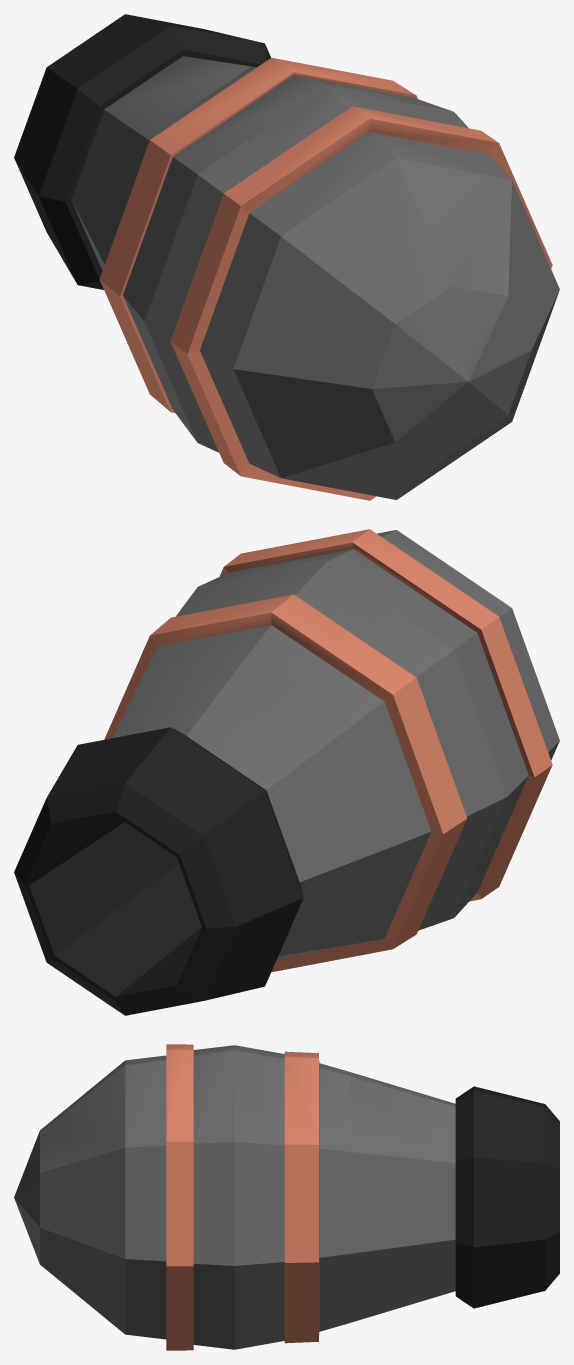
The model's file is TailArmor.fbx.
3 renders of one model, top to bottom at view 1: azimuth 30°, elevation 25°; view 2: azimuth 150°, elevation 25°; view 3: azimuth 270°, elevation 25°, orthographic. The views are drawn at different scales.
Parts seen in each view (by area): view 1: Hood; view 2: Hood; view 3: Hood.
Boxes of the visible parts, x1,y1,x2,y2 form: Hood: (14,14,559,500); Hood: (14,529,559,1015); Hood: (14,1044,559,1350).
Size of the model in its own units: 2603 by 2603 by 4356.
